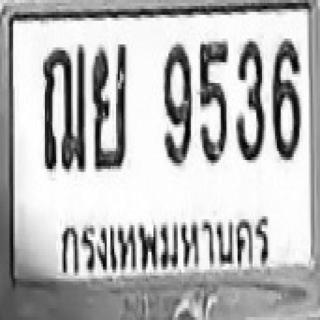A12: (41, 43, 84, 170)
A34: (90, 42, 127, 169)
N03: (234, 39, 264, 160)
N05: (198, 40, 226, 162)
N06: (272, 39, 300, 157)
N09: (161, 41, 191, 163)
P04: (55, 212, 275, 273)
